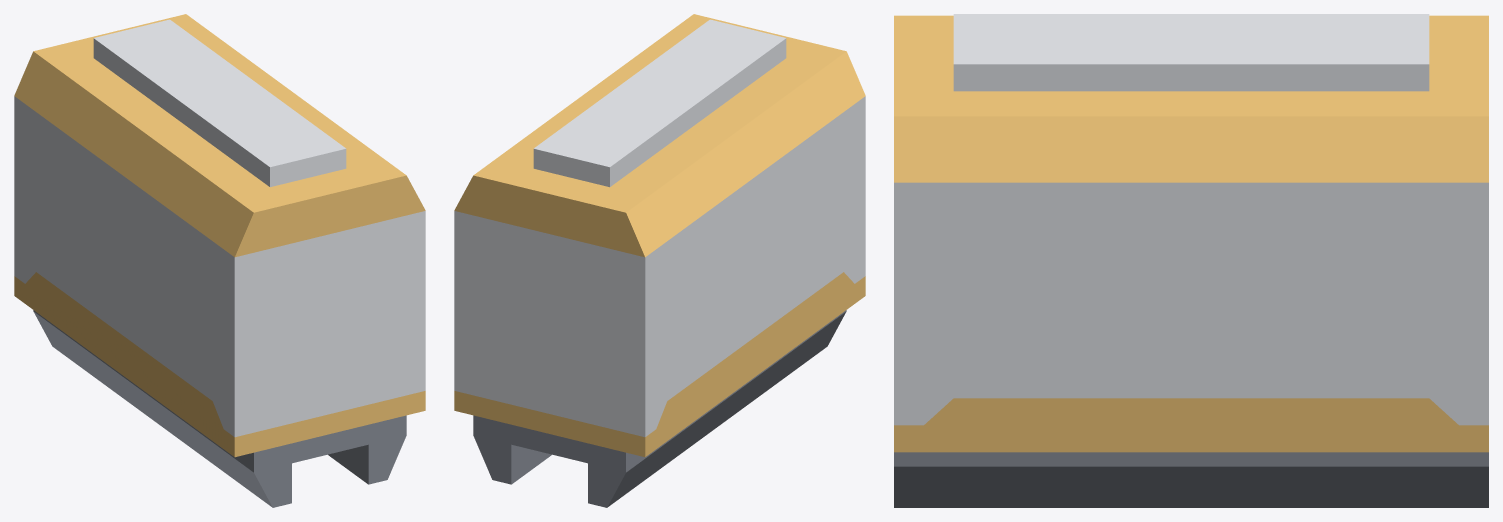
Rendered from monorail_trainBox.glb.
The picture shows the model from 3 angles, left to right: view 1: azimuth 30°, elevation 25°; view 2: azimuth 150°, elevation 25°; view 3: azimuth 270°, elevation 25°; orthographic projection. The views are drawn at different scales.
Parts seen in each view (by area): view 1: monorail_trainBox; view 2: monorail_trainBox; view 3: monorail_trainBox.
Boxes of the visible parts, left/top/right/bottom form: monorail_trainBox: left=14, top=14, right=425, bottom=507; monorail_trainBox: left=454, top=14, right=865, bottom=507; monorail_trainBox: left=894, top=14, right=1488, bottom=507.
Size of the model in its own units: 0.5 by 0.8 by 1.
